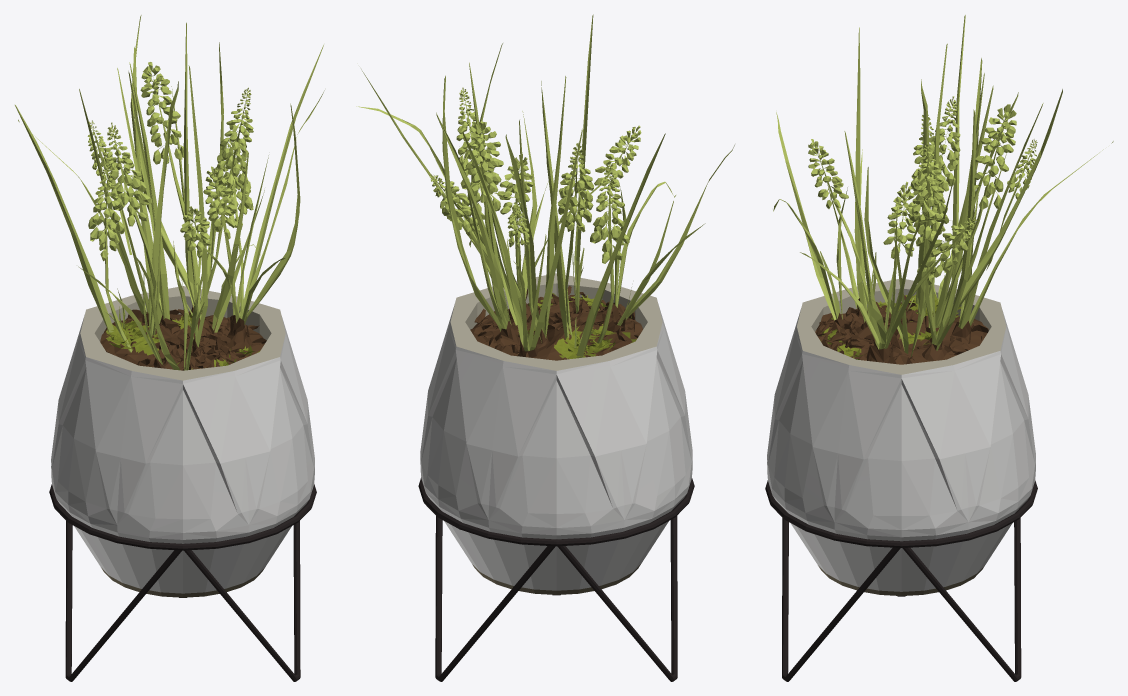
The model's file is flowerpot2.fbx.
The picture shows the model from 3 angles, left to right: view 1: azimuth 30°, elevation 25°; view 2: azimuth 150°, elevation 25°; view 3: azimuth 270°, elevation 25°; orthographic projection. The views are drawn at different scales.
Parts seen in each view (by area): view 1: Planter Stand 002_001; view 2: Planter Stand 002_001; view 3: Planter Stand 002_001.
Boxes of the visible parts, <box> form: Planter Stand 002_001: <box>15,15,324,681</box>; Planter Stand 002_001: <box>356,14,734,681</box>; Planter Stand 002_001: <box>765,15,1113,681</box>.
Size of the model in its own units: 17.83 by 33.72 by 17.23.
